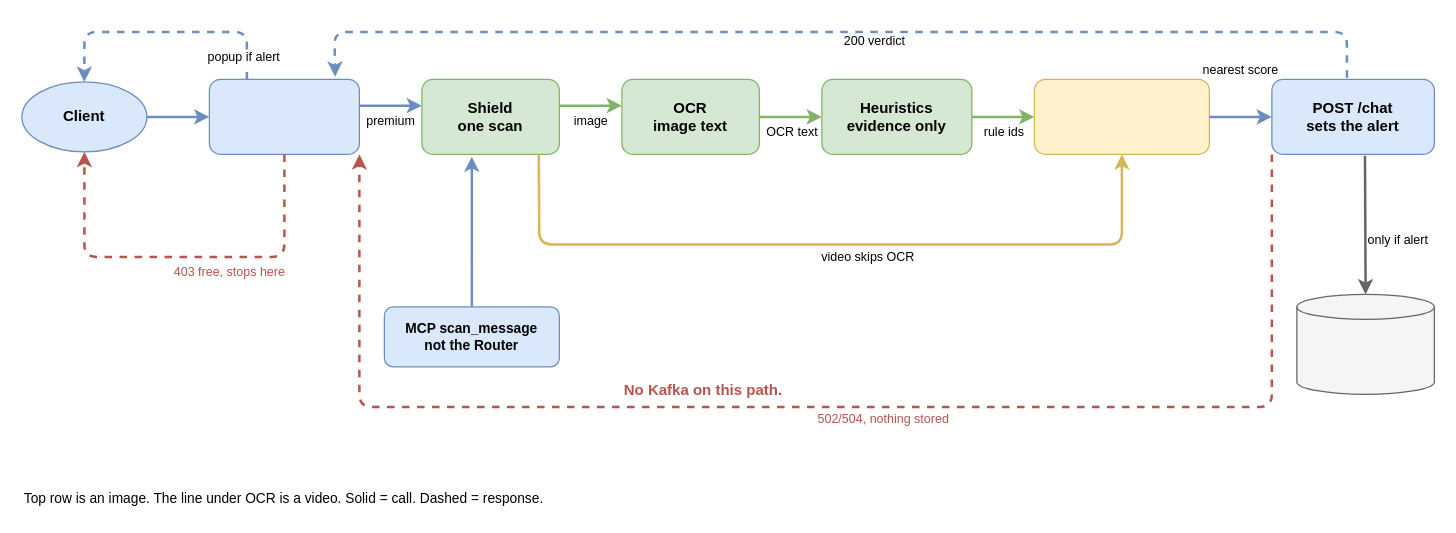
Some shapes in this 1456 by 533 pixel diagram are drawn without their labels. Each missing label, with the centre of its shape:
"incidents alerts only" goes at (x=1365, y=343).
"POST /embed cosine vs corpus" goes at (x=1121, y=116).
"Router checks JWT" goes at (x=283, y=116).
